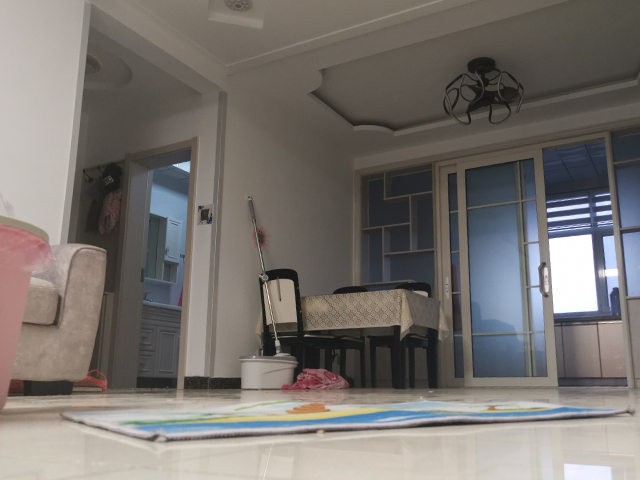cabinet: (552, 313, 631, 387), (130, 298, 184, 387)
carpet: (56, 394, 640, 448)
sofa: (1, 214, 109, 397)
stool: (257, 270, 327, 377), (373, 324, 435, 389)
table: (298, 288, 442, 391)
trashcan: (1, 217, 55, 415)
